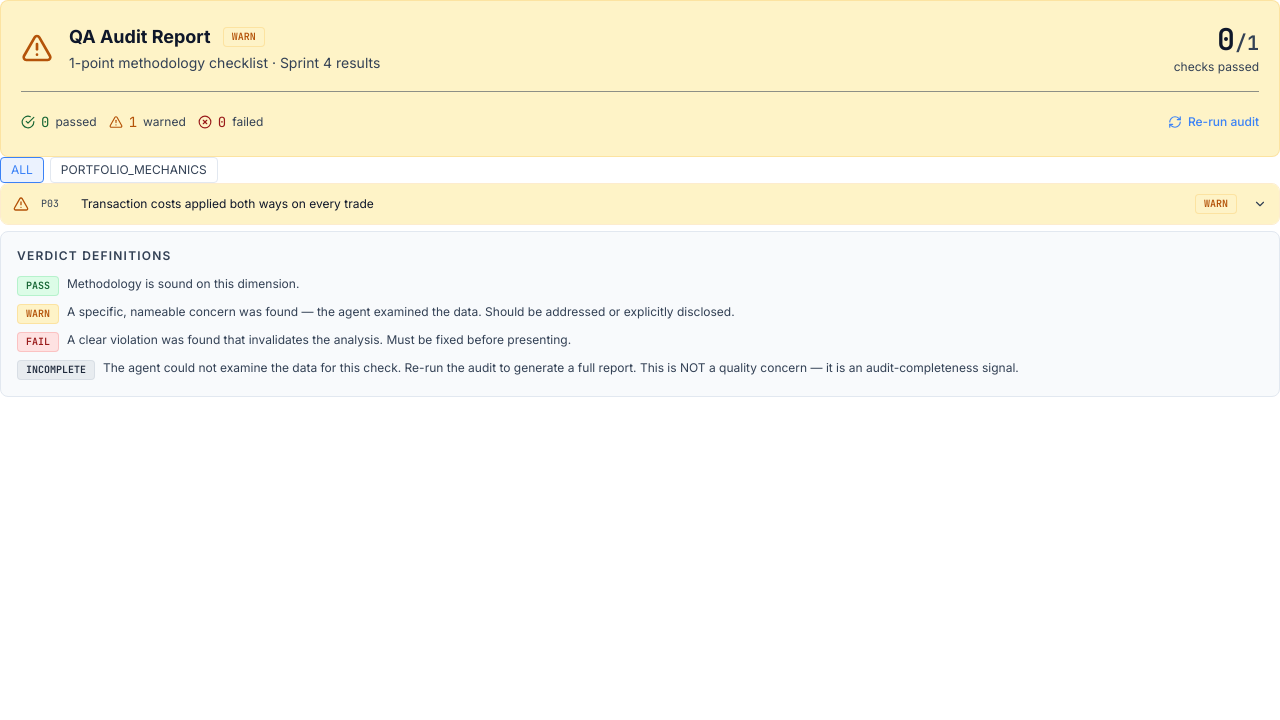
Scenario: QAAuditPanel — Edit Disclosure (Workstream E) › refreshes the overrides list after a successful Save
Click the text "Transaction costs applied both ways on every trade".
click(227, 204)  # box left=81, top=196, right=374, bottom=211
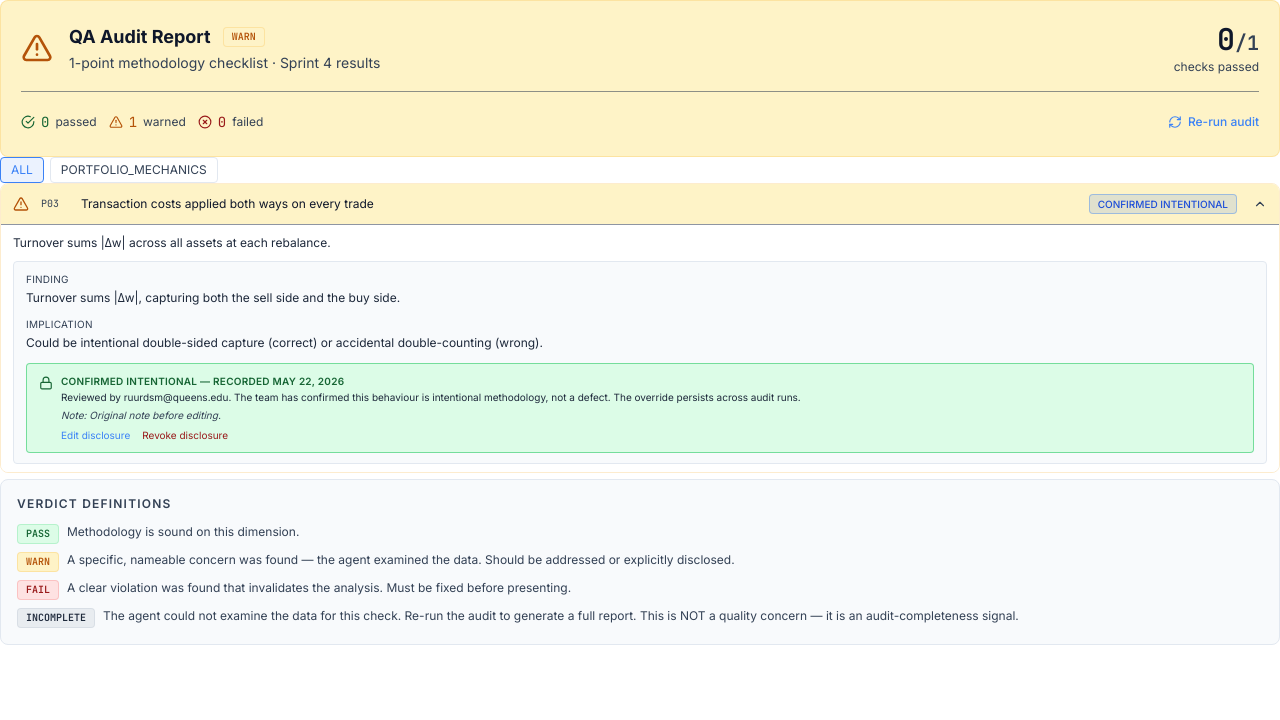
Click the button "Edit disclosure".
click(96, 434)  # box left=61, top=428, right=130, bottom=442
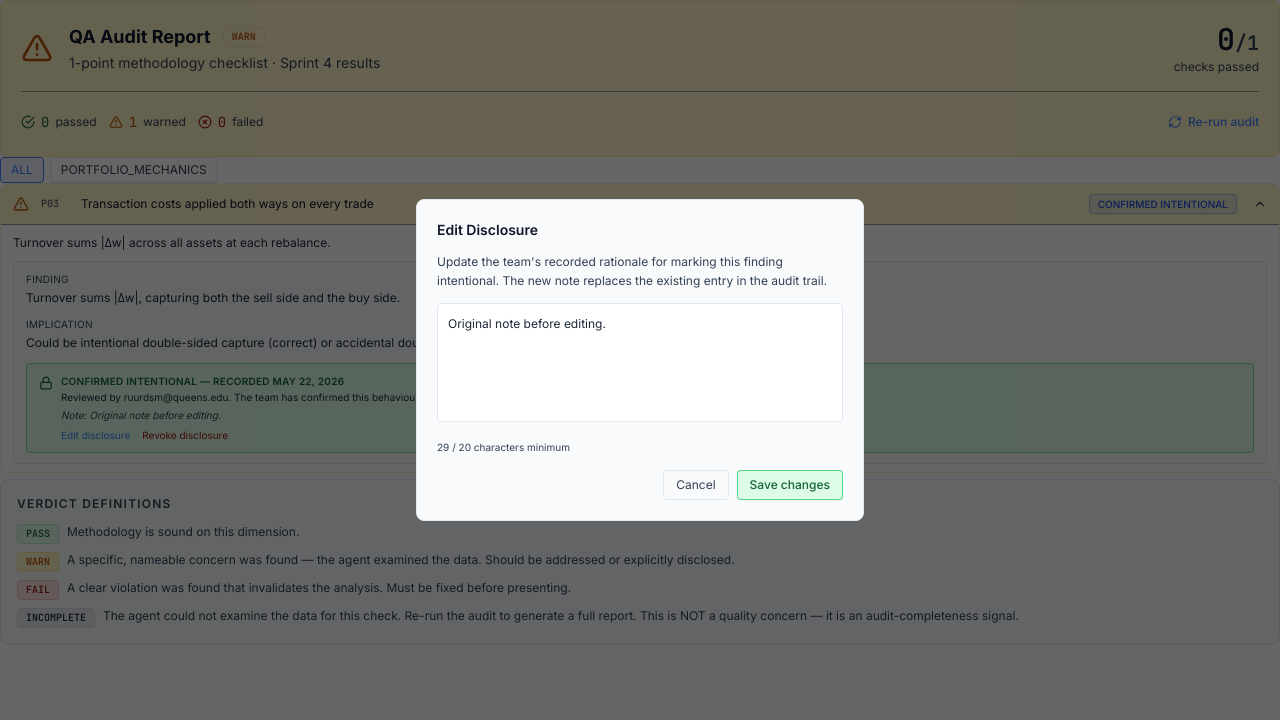
Replace the text in the text box with "Edited note exceeding twenty characters." at (640, 363), box left=437, top=303, right=843, bottom=422
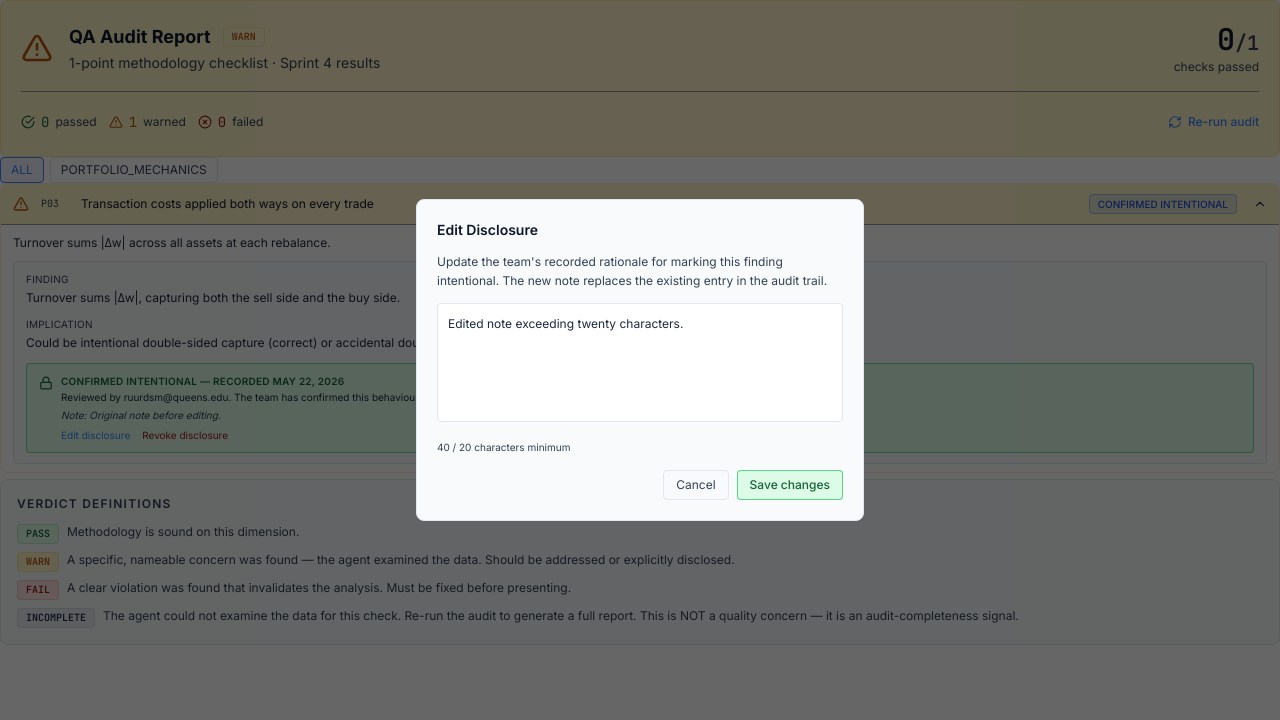
Click the button "Save changes".
click(790, 485)  # box left=737, top=470, right=843, bottom=500
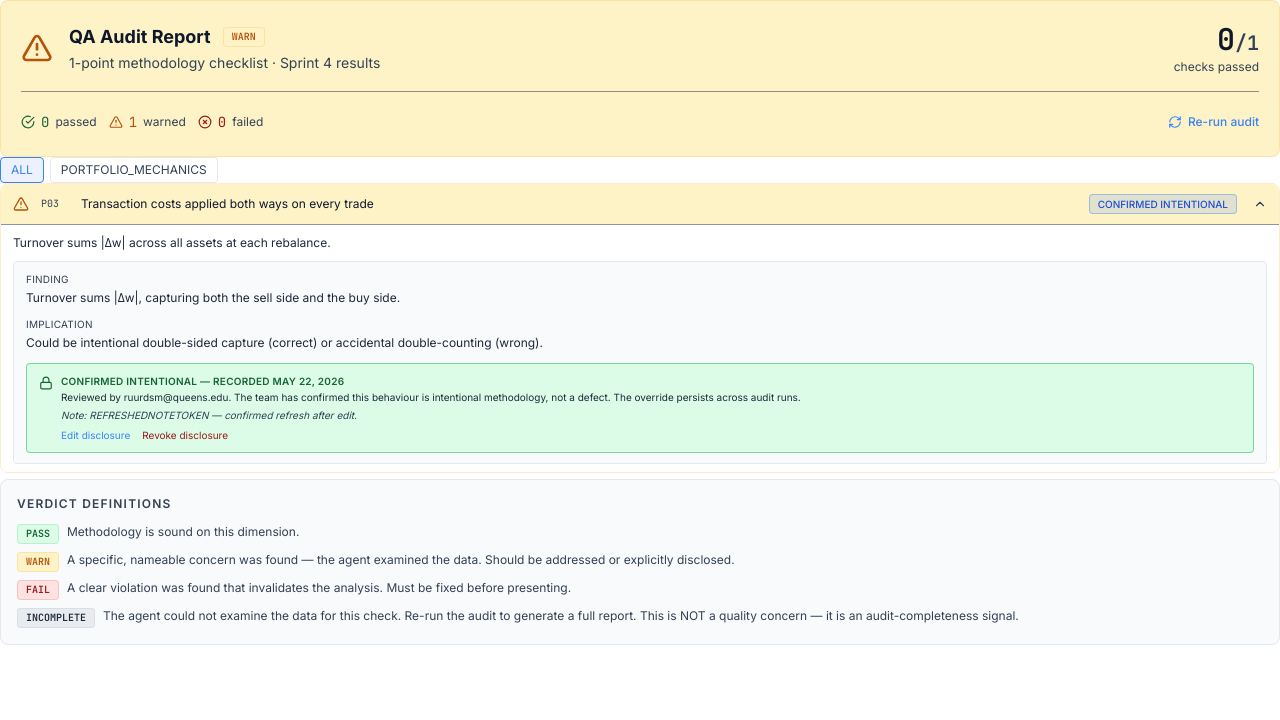
Result: the text "Note: REFRESHEDNOTETOKEN — confirmed refresh after edit." is shown at left=61, top=408, right=357, bottom=420
